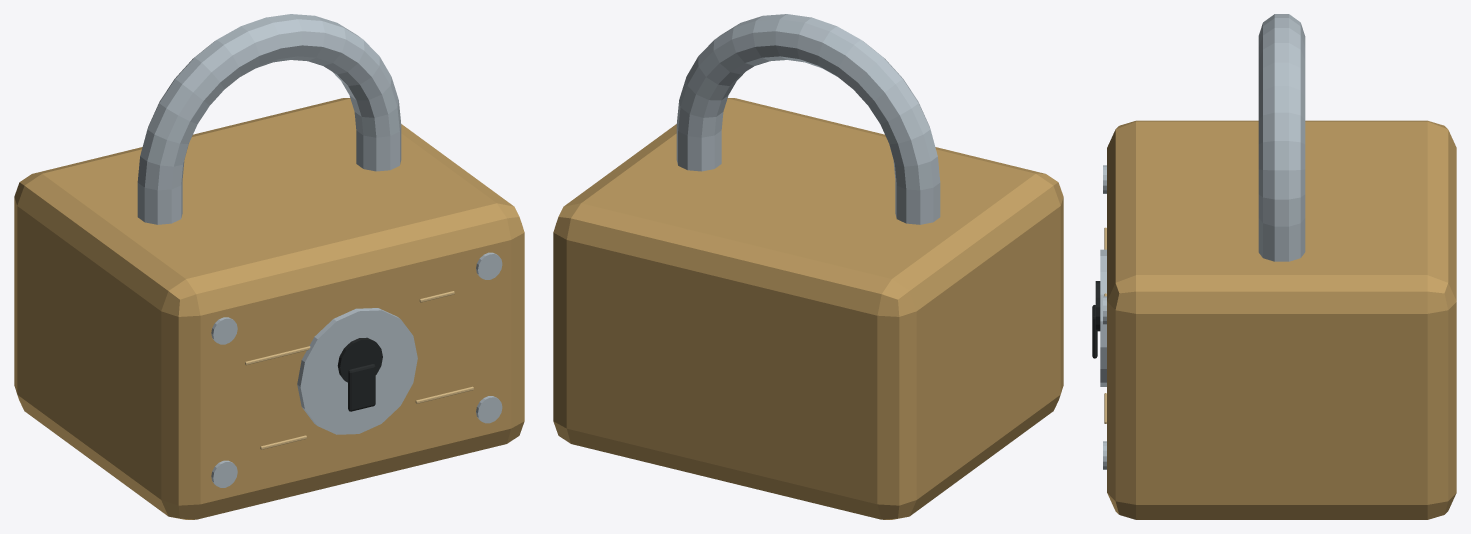
File: CoopPadlock.fbx
The picture shows the model from 3 angles, left to right: view 1: azimuth 30°, elevation 25°; view 2: azimuth 150°, elevation 25°; view 3: azimuth 270°, elevation 25°; orthographic projection.
Parts seen in each view (by area): view 1: CoopPadlock; view 2: CoopPadlock; view 3: CoopPadlock.
Boxes of the visible parts, bbox=[...] form: CoopPadlock: bbox=[14, 14, 524, 519]; CoopPadlock: bbox=[553, 14, 1063, 519]; CoopPadlock: bbox=[1092, 14, 1456, 519].
Bounding box in the file's own units: 94 × 102 × 81.3.
